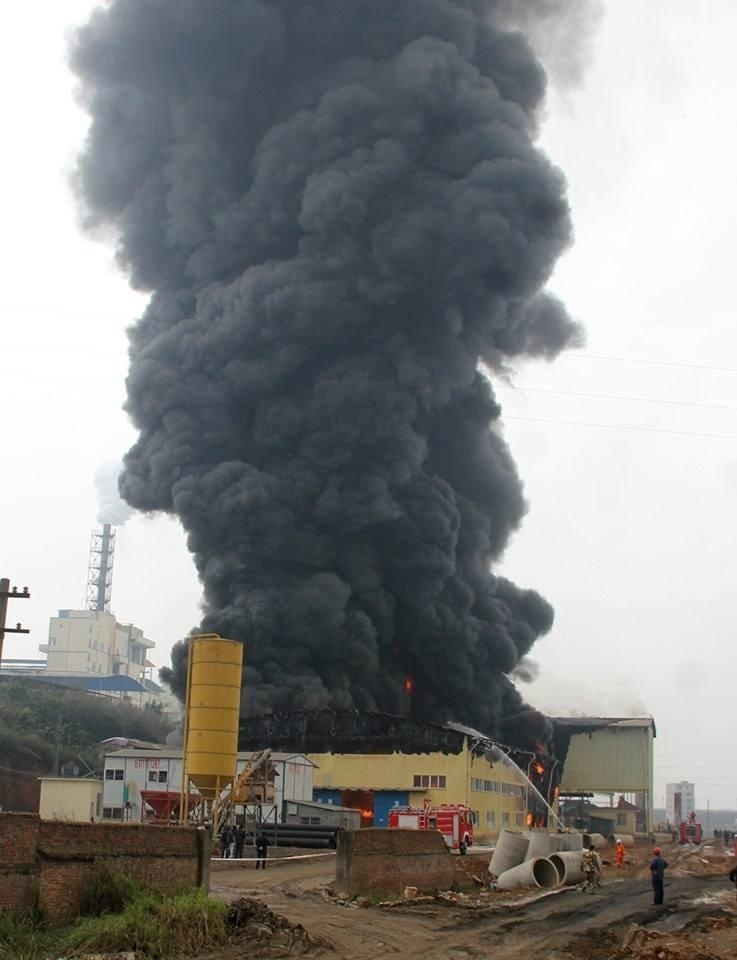fire: (357, 804, 372, 821)
